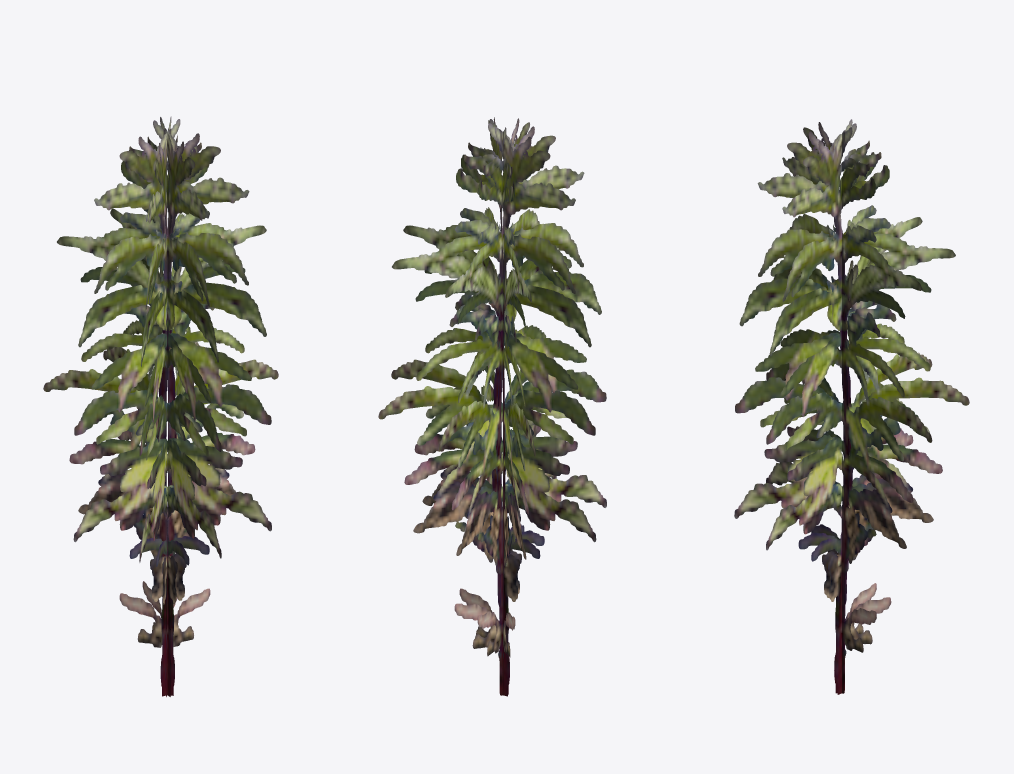
The model's file is 3d-tanam2.glb.
3 views of the same model, side by side, from view 1: azimuth 30°, elevation 25°; view 2: azimuth 150°, elevation 25°; view 3: azimuth 270°, elevation 25° (orthographic).
Parts seen in each view (by area): view 1: Material_001-material; view 2: Material_001-material; view 3: Material_001-material.
Part boxes in pixels (<box>): Material_001-material: <box>43,116,278,696</box>; Material_001-material: <box>378,117,606,696</box>; Material_001-material: <box>734,119,969,694</box>.
Size of the model in its own units: 1.63 by 3.5 by 1.63.
1 material, 1 textured.
